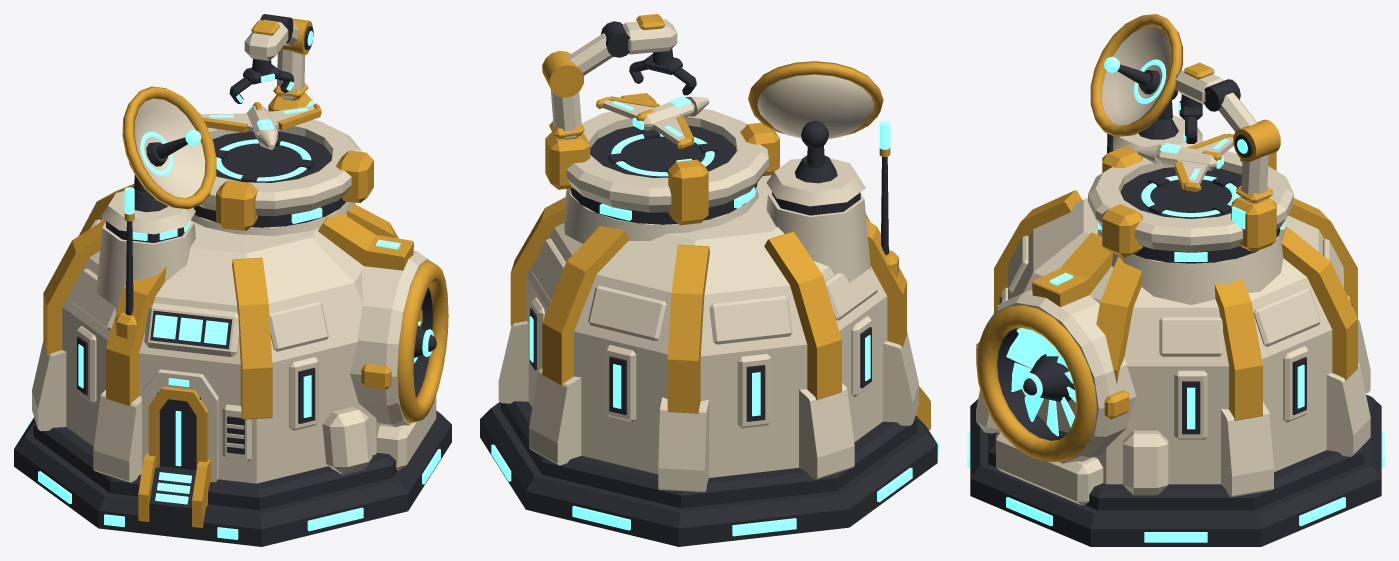
The model's file is ambron_aerolab.glb.
3 renders of one model, left to right at view 1: azimuth 30°, elevation 25°; view 2: azimuth 150°, elevation 25°; view 3: azimuth 270°, elevation 25°, orthographic. The views are drawn at different scales.
Visible parts, largest first — view 1: body, float_drone_mesh; view 2: body, float_drone_mesh; view 3: body, float_drone_mesh.
Boxes of the visible parts, x1=… form: body: x1=14, y1=14, x2=451, y2=546; float_drone_mesh: x1=198, y1=102, x2=321, y2=149; body: x1=480, y1=14, x2=938, y2=546; float_drone_mesh: x1=596, y1=96, x2=709, y2=149; body: x1=967, y1=14, x2=1384, y2=546; float_drone_mesh: x1=1137, y1=133, x2=1233, y2=192.
Bounding box in the file's own units: 2.75 × 3.02 × 2.75.
